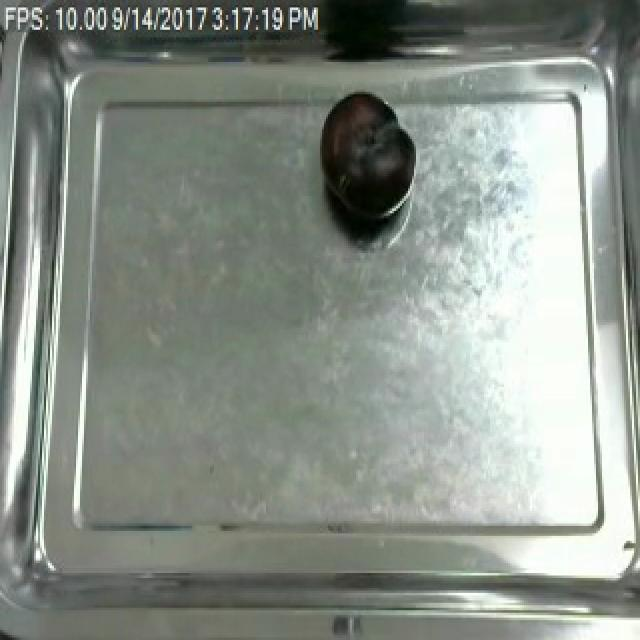Fruit: (316, 89, 420, 231)
